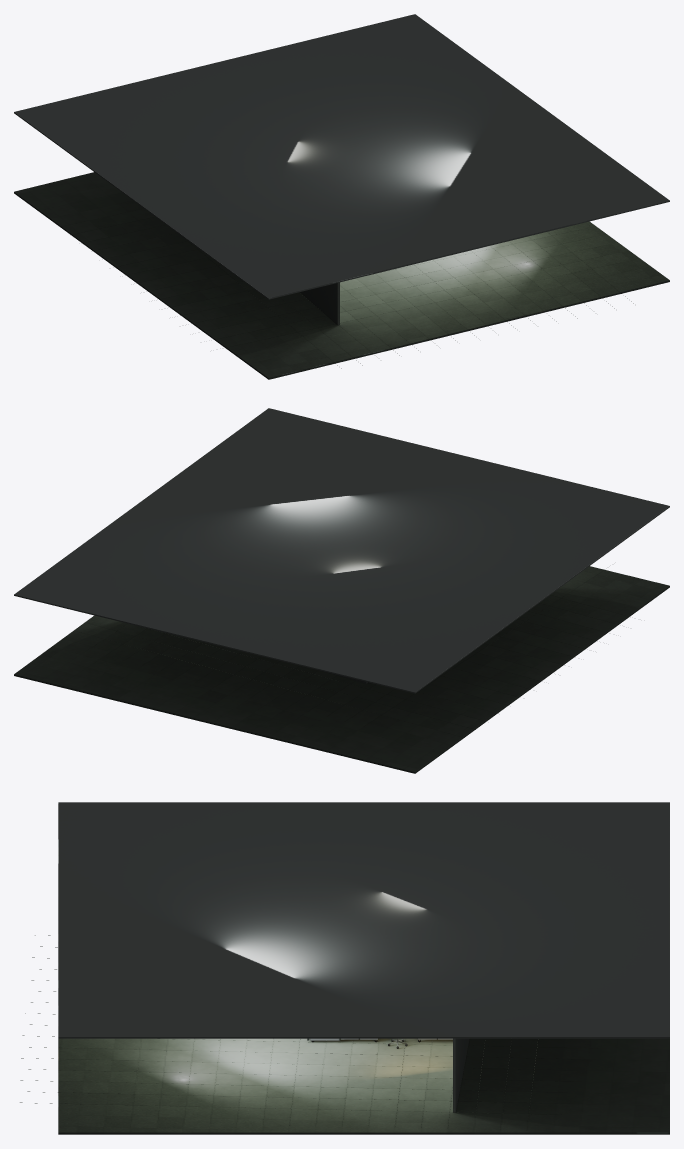
Rendered from studio1-baked.glb.
The picture shows the model from 3 angles, top to bottom: view 1: azimuth 30°, elevation 25°; view 2: azimuth 150°, elevation 25°; view 3: azimuth 270°, elevation 25°; orthographic projection. The views are drawn at different scales.
Parts seen in each view (by area): view 1: studio1_baked; view 2: studio1_baked; view 3: studio1_baked.
Part boxes in pixels (box(x1,y1,x2,y2)): studio1_baked: box(14, 14, 669, 379); studio1_baked: box(14, 408, 669, 773); studio1_baked: box(20, 802, 669, 1134).
Size of the model in its own units: 20.86 by 3.88 by 23.6.
Materials: 1 (1 with a texture image).
